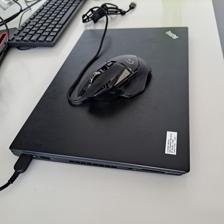mouse: (78, 53, 153, 103)
